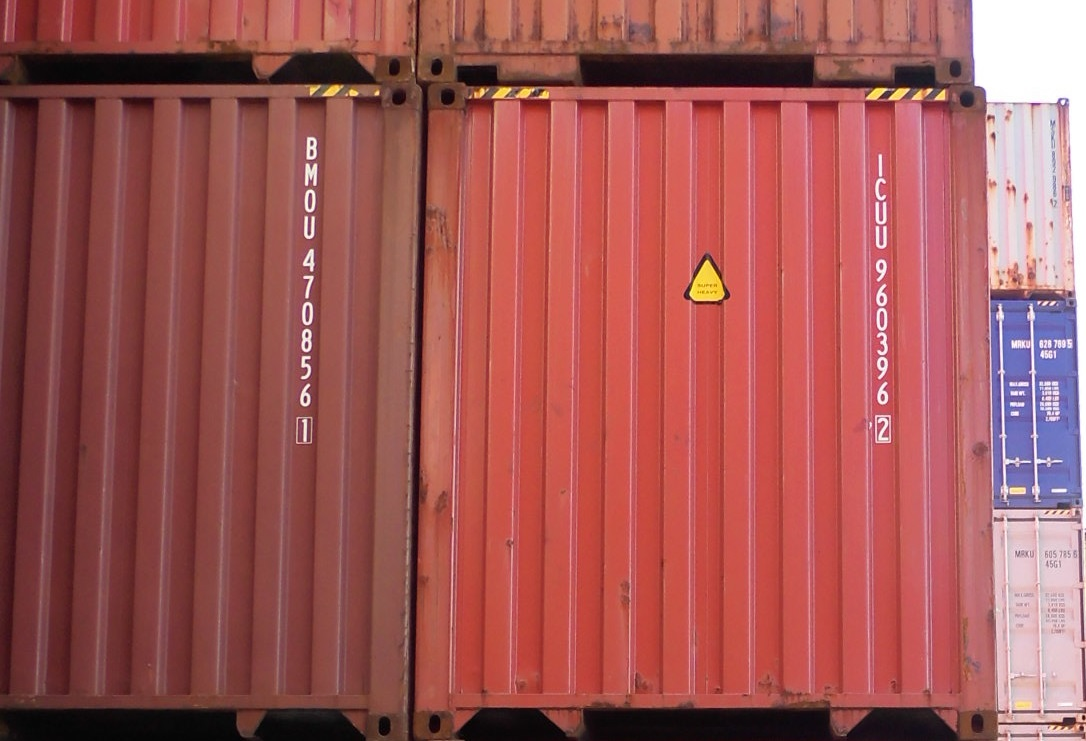container_door: (993, 515, 1086, 730), (989, 296, 1081, 511)
container_no_door: (433, 81, 995, 741), (1, 81, 407, 741), (987, 100, 1072, 285)
